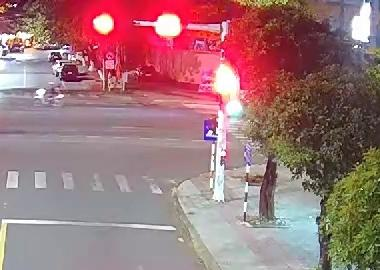red_light: (153, 14, 183, 38), (90, 12, 118, 37)
stop_line: (2, 218, 176, 230)
